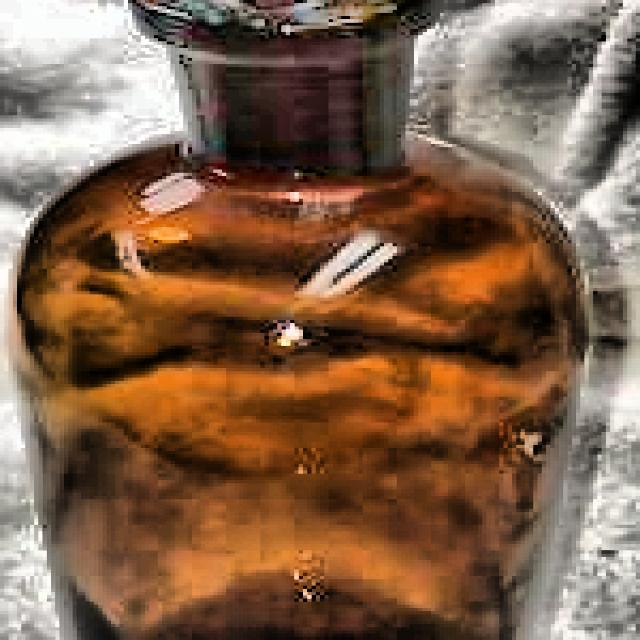glass: (0, 0, 593, 640)
